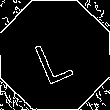L_NW: (31, 26, 79, 84)
